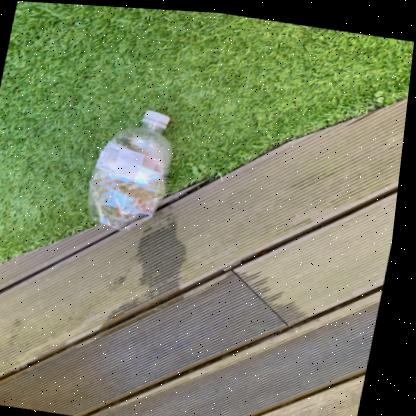Plastic: (92, 108, 176, 228)
